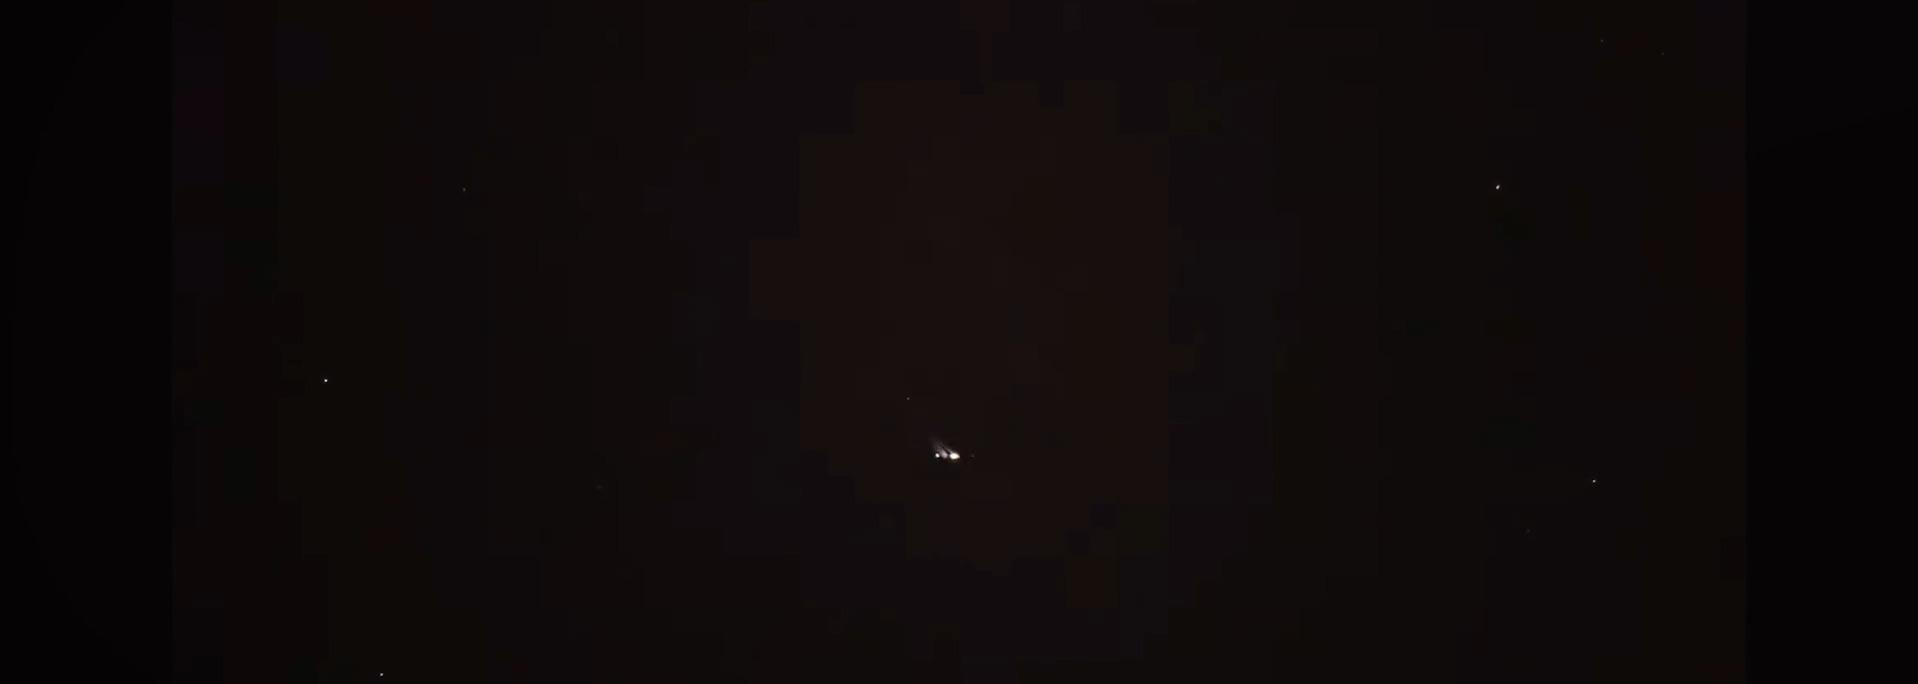Plane: (904, 427, 988, 474)
